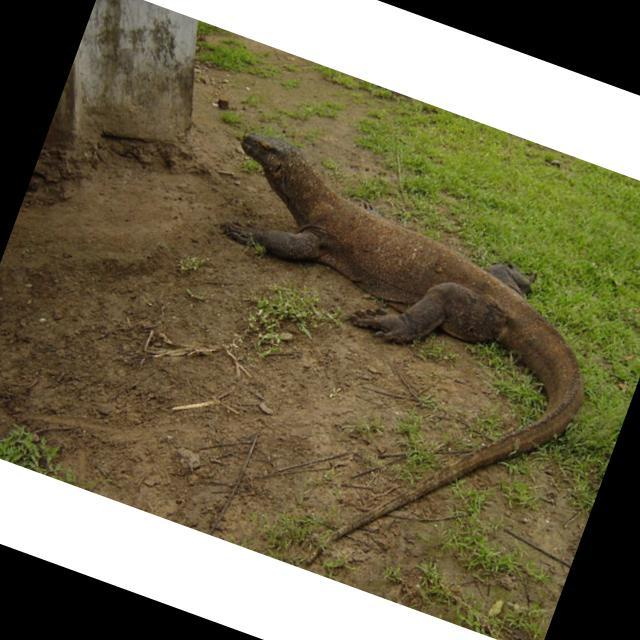KomodoDragon: (111, 121, 634, 634)
